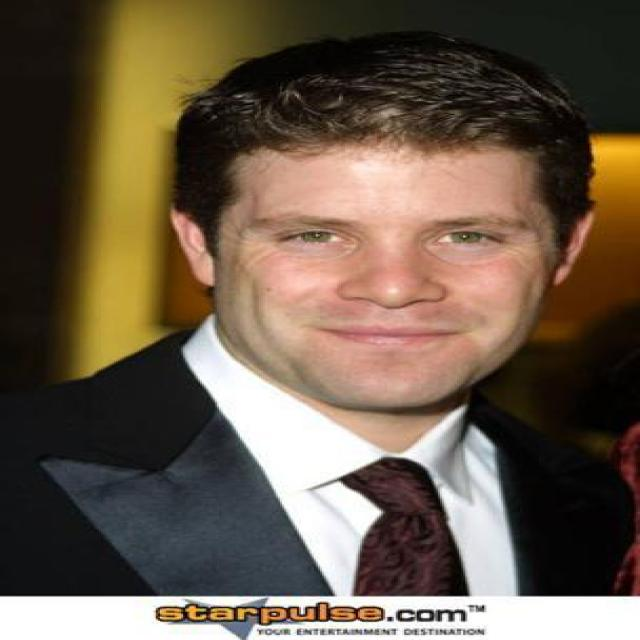0_rostro_limpio: (171, 49, 591, 410)
